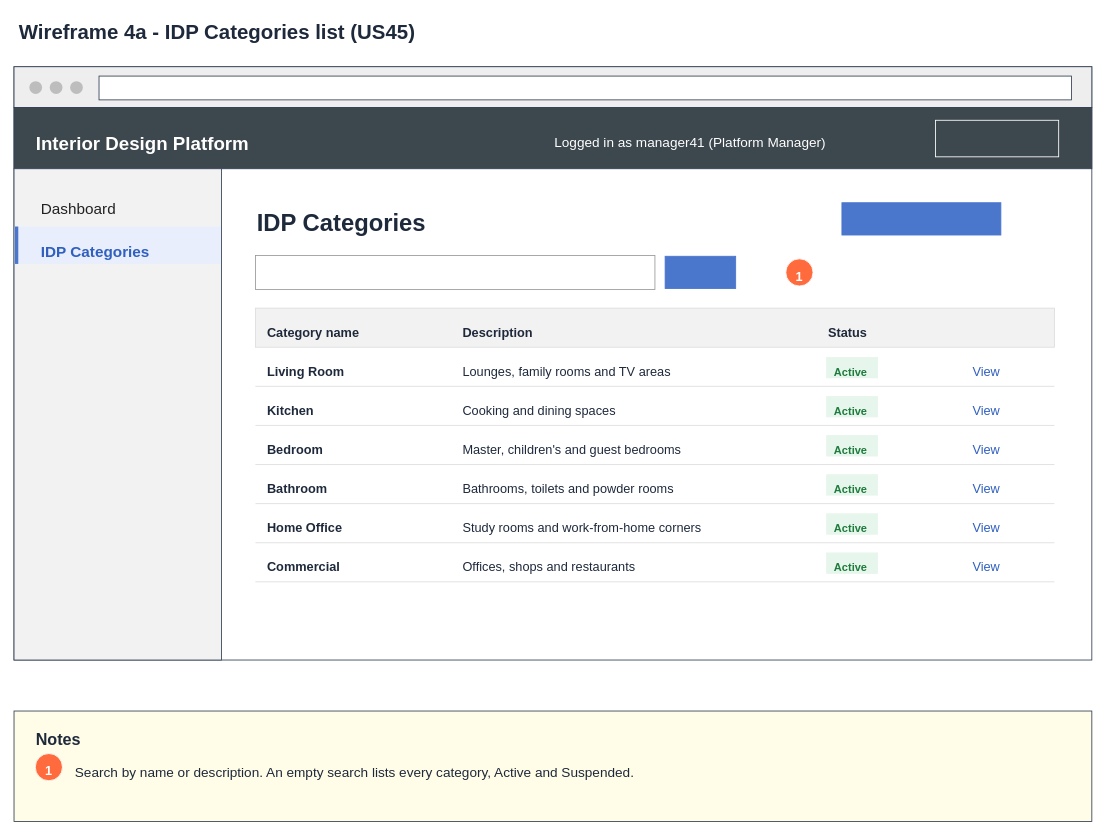
Image size: 1106x836. Some labels were removed from this diagram. Each missing label, with the centre of its shape:
"+ Create IDP category" goes at point (921, 218).
"localhost:5000/manager/categories" goes at point (584, 87).
"Log out" goes at point (997, 138).
"Search" goes at point (700, 272).
"Search by name or description" goes at point (455, 272).
